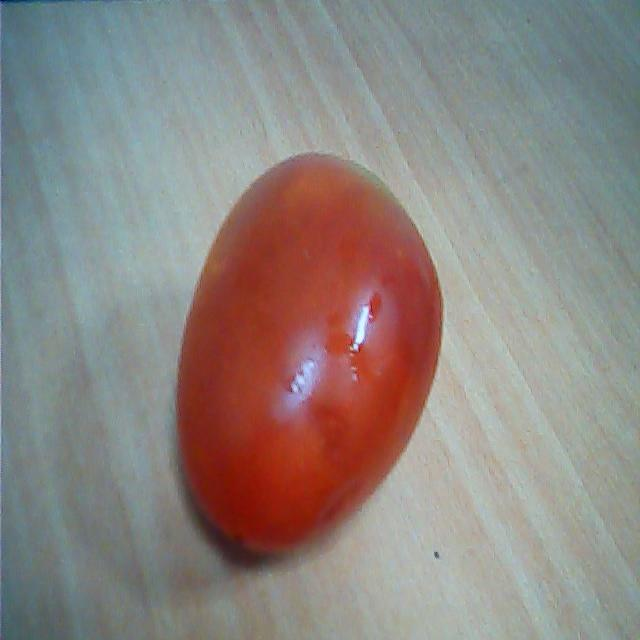maduro: (173, 149, 446, 564)
